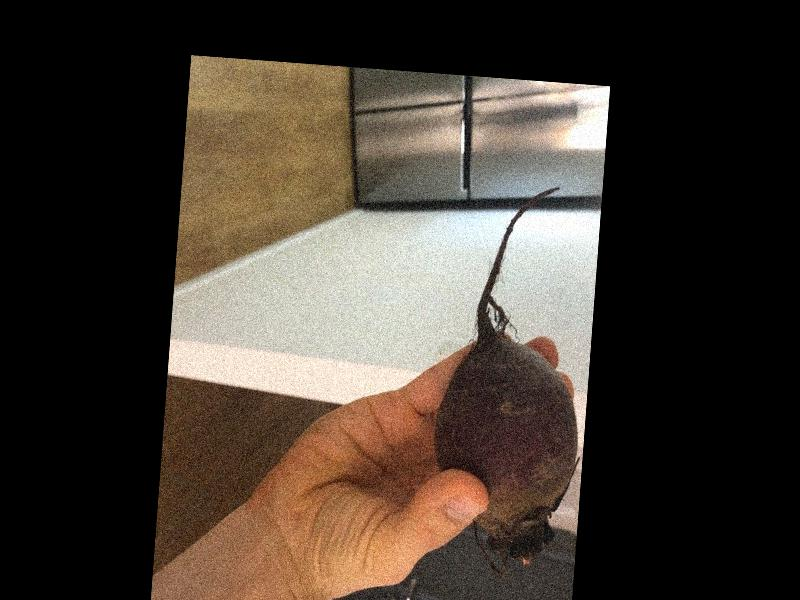Beet: (427, 180, 599, 582)
